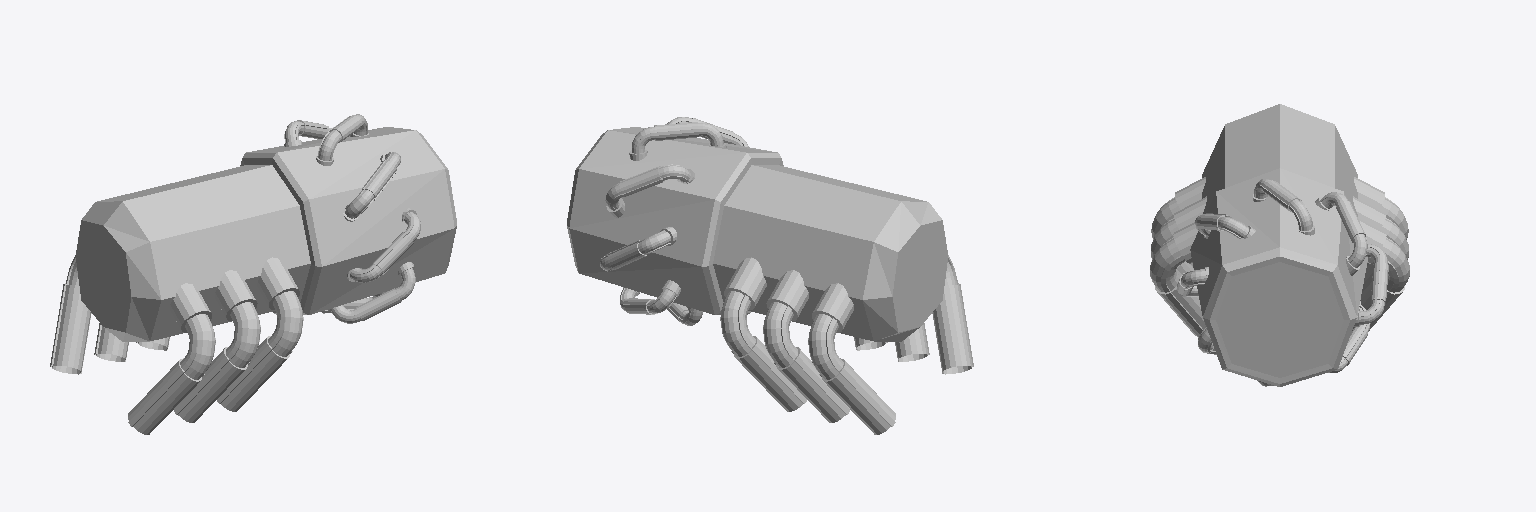
Rendered from Engine.OBJ.
3 views of the same model, side by side, from view 1: azimuth 30°, elevation 25°; view 2: azimuth 150°, elevation 25°; view 3: azimuth 270°, elevation 25° (orthographic).
Visible parts, largest first — view 1: Group28082; view 2: Group28082; view 3: Group28082.
Part boxes in pixels (x1,y1,x2,y2): Group28082: (50,114,456,434); Group28082: (567,117,973,434); Group28082: (1150,104,1409,386).
Size of the model in its own units: 2.09 by 1.34 by 1.41.